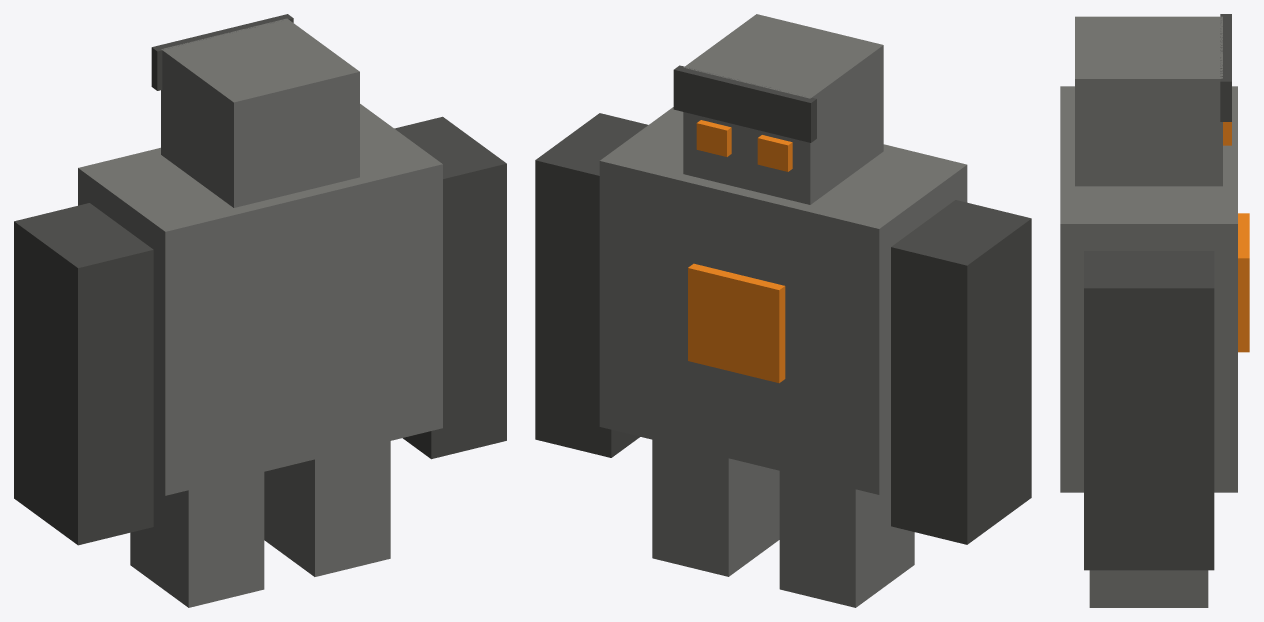
The model's file is golem.gltf.
The picture shows the model from 3 angles, left to right: view 1: azimuth 30°, elevation 25°; view 2: azimuth 150°, elevation 25°; view 3: azimuth 270°, elevation 25°; orthographic projection.
Visible parts, largest first — view 1: torso, arm_l, head, arm_r, leg_r, leg_l, brow; view 2: torso, arm_l, head, arm_r, leg_r, leg_l, core, brow, eye_l, eye_r; view 3: arm_r, torso, head, leg_r, core, brow.
Part boxes in pixels (bbox=[...]): torso: bbox=[78, 104, 442, 495]; arm_l: bbox=[14, 203, 153, 545]; head: bbox=[161, 18, 359, 207]; arm_r: bbox=[394, 116, 506, 459]; leg_r: bbox=[264, 441, 390, 576]; leg_l: bbox=[130, 472, 264, 607]; brow: bbox=[151, 14, 293, 90]; torso: bbox=[599, 107, 967, 494]; arm_l: bbox=[891, 200, 1031, 544]; head: bbox=[683, 14, 883, 204]; arm_r: bbox=[535, 113, 647, 457]; leg_r: bbox=[652, 439, 779, 576]; leg_l: bbox=[779, 471, 914, 607]; core: bbox=[688, 263, 785, 383]; brow: bbox=[673, 65, 816, 142]; eye_l: bbox=[757, 135, 792, 171]; eye_r: bbox=[696, 120, 731, 156]; arm_r: bbox=[1084, 251, 1214, 570]; torso: bbox=[1060, 86, 1237, 492]; head: bbox=[1075, 16, 1222, 186]; leg_r: bbox=[1089, 570, 1208, 607]; core: bbox=[1238, 213, 1249, 352]; brow: bbox=[1220, 14, 1231, 121].
Bounding box in the file's own units: 1.06 × 1.19 × 0.4.
3 materials, 3 textured.
